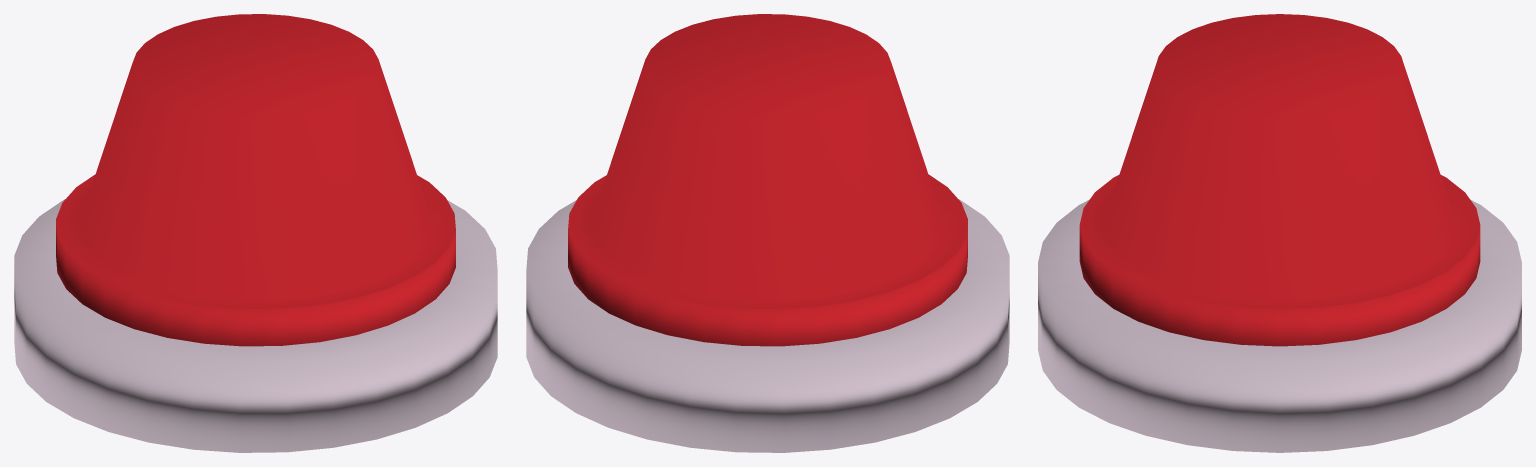
The model's file is alarm.glb.
3 renders of one model, left to right at view 1: azimuth 30°, elevation 25°; view 2: azimuth 150°, elevation 25°; view 3: azimuth 270°, elevation 25°, orthographic.
Parts seen in each view (by area): view 1: Base; view 2: Base; view 3: Base.
Boxes of the visible parts, <box> form: Base: <box>14,14,497,452</box>; Base: <box>526,14,1009,452</box>; Base: <box>1038,14,1521,452</box>.
Size of the model in its own units: 1.11 by 0.718 by 1.11.
